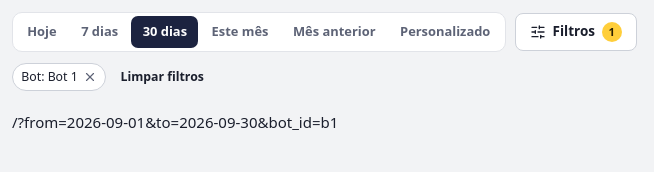
Scenario: restaura filtros da URL e grava mudanças nela
Click the button "7 dias": click(100, 32) [70,16,129,48]
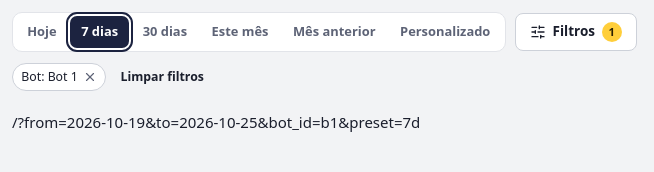
Expected: the text with test id "location" shows "bot_id=b1", [12,112,420,132]
Now the text with test id "location" shows "preset=7d", box [12,112,420,132]
